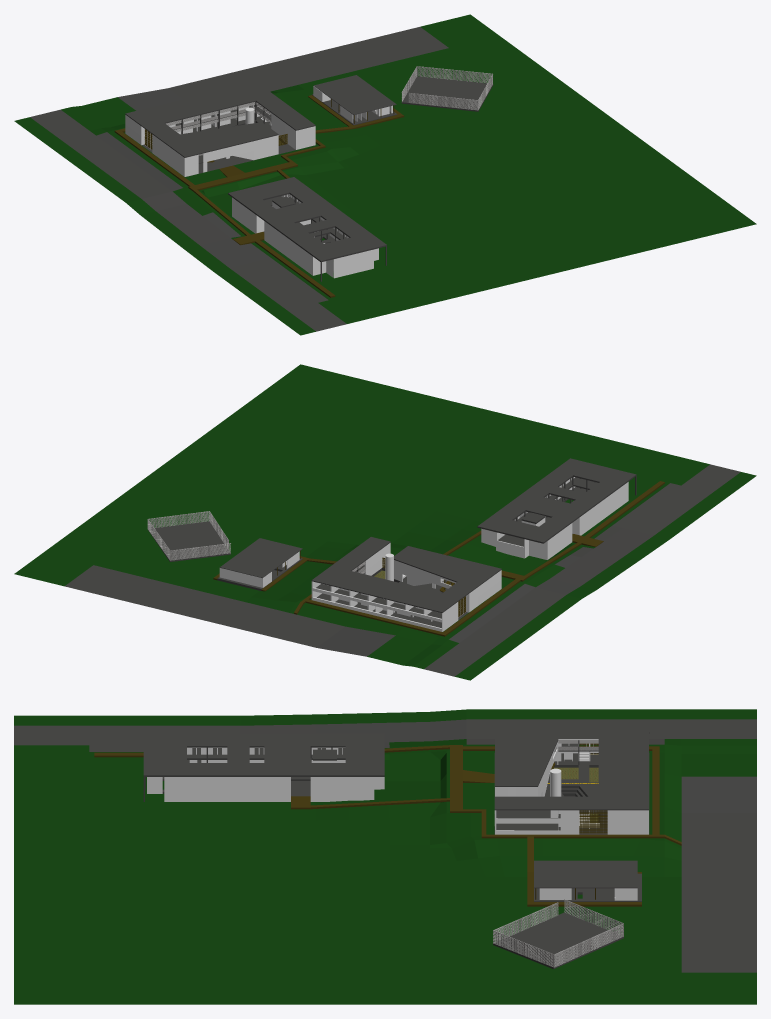
The model's file is FGA.glb.
3 renders of one model, top to bottom at view 1: azimuth 30°, elevation 25°; view 2: azimuth 150°, elevation 25°; view 3: azimuth 270°, elevation 25°, orthographic. The views are drawn at different scales.
Visible parts, largest first — view 1: Chao, telhadoUAC, Telhado, calcada, UAC_1andar, ParedesTerreo, Grade, telhadoRU, UAC_piso_terreo, Barras_ferro, ParedesRU; view 2: Chao, telhadoUAC, Telhado, calcada, UAC_1andar, ParedesTerreo, telhadoRU, Grade, UAC_piso_terreo, ParedesRU, Piso_2andarUED, UAC_piso; view 3: Chao, telhadoUAC, Telhado, calcada, ParedesTerreo, UAC_1andar, Grade, telhadoRU, UAC_piso_terreo, pisoRU, Quadriculado, UAC_piso (+2 smaller).
Part boxes in pixels (bbox=[...]): Chao: bbox=[14, 14, 756, 335]; telhadoUAC: bbox=[125, 81, 315, 157]; Telhado: bbox=[228, 177, 386, 262]; calcada: bbox=[114, 76, 493, 297]; UAC_1andar: bbox=[125, 103, 315, 176]; ParedesTerreo: bbox=[232, 194, 378, 278]; Grade: bbox=[401, 66, 492, 110]; telhadoRU: bbox=[313, 75, 396, 114]; UAC_piso_terreo: bbox=[142, 113, 313, 176]; Barras_ferro: bbox=[165, 102, 271, 131]; ParedesRU: bbox=[313, 86, 394, 123]; Chao: bbox=[14, 364, 756, 680]; telhadoUAC: bbox=[311, 537, 501, 612]; Telhado: bbox=[477, 458, 636, 543]; calcada: bbox=[148, 481, 664, 636]; UAC_1andar: bbox=[311, 543, 501, 631]; ParedesTerreo: bbox=[481, 477, 628, 559]; telhadoRU: bbox=[220, 538, 302, 578]; Grade: bbox=[147, 511, 230, 560]; UAC_piso_terreo: bbox=[317, 566, 468, 628]; ParedesRU: bbox=[219, 550, 300, 587]; Piso_2andarUED: bbox=[497, 477, 598, 546]; UAC_piso: bbox=[316, 565, 444, 618]; Chao: bbox=[14, 709, 756, 1004]; telhadoUAC: bbox=[494, 726, 649, 810]; Telhado: bbox=[143, 733, 384, 776]; calcada: bbox=[94, 745, 681, 969]; ParedesTerreo: bbox=[147, 747, 384, 801]; UAC_1andar: bbox=[494, 739, 648, 834]; Grade: bbox=[493, 899, 623, 967]; telhadoRU: bbox=[534, 860, 637, 888]; UAC_piso_terreo: bbox=[494, 753, 649, 834]; pisoRU: bbox=[534, 873, 641, 901]; Quadriculado: bbox=[579, 743, 607, 833]; UAC_piso: bbox=[496, 743, 607, 818].
Size of what is drawn, in the model's own units: 247 by 18.25 by 269.
Materials: 8 (4 with a texture image).
